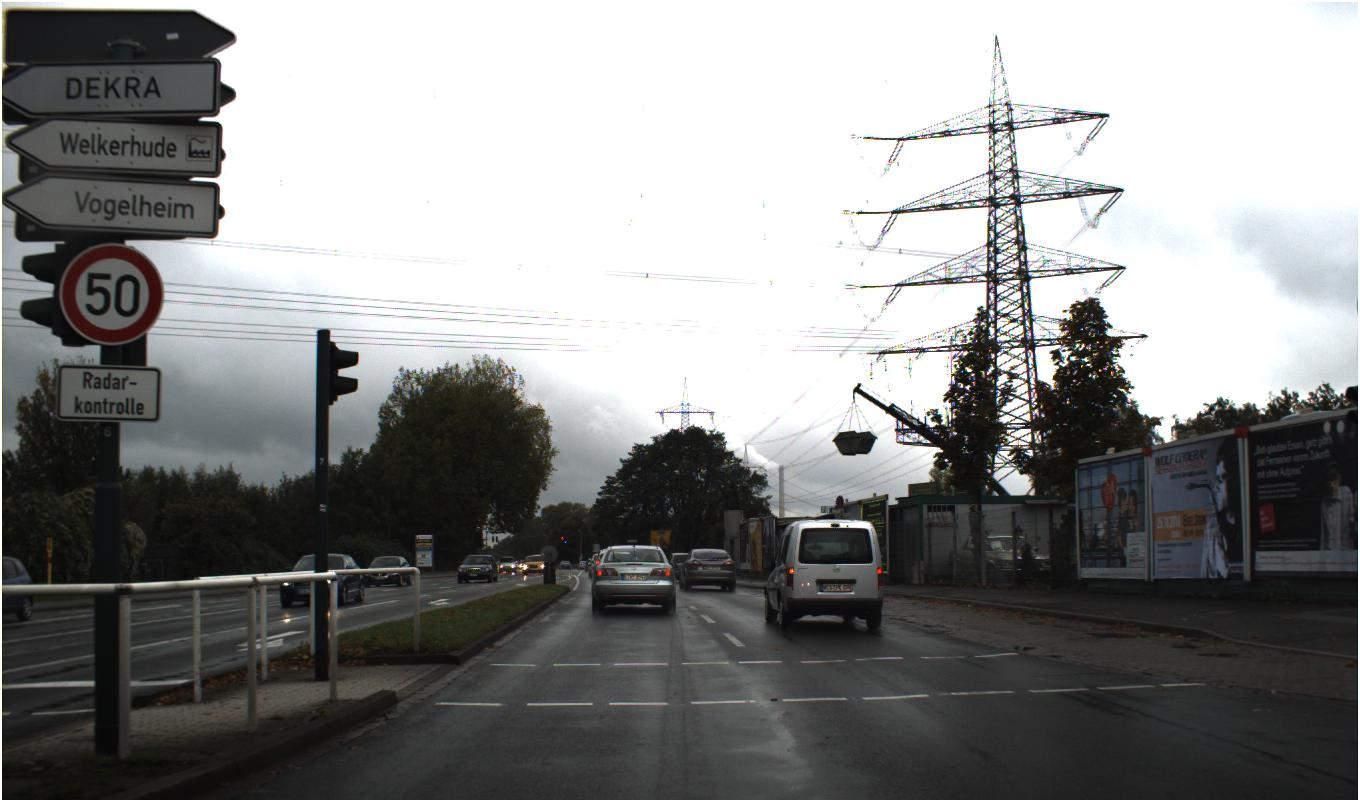prohibitory: (58, 243, 164, 345)
